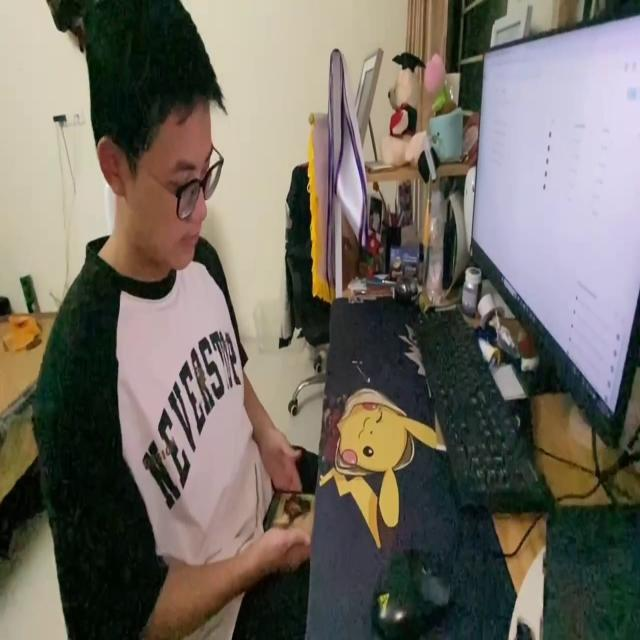laptop: (468, 5, 640, 447)
phone: (262, 480, 316, 536)
student: (34, 0, 309, 640)
